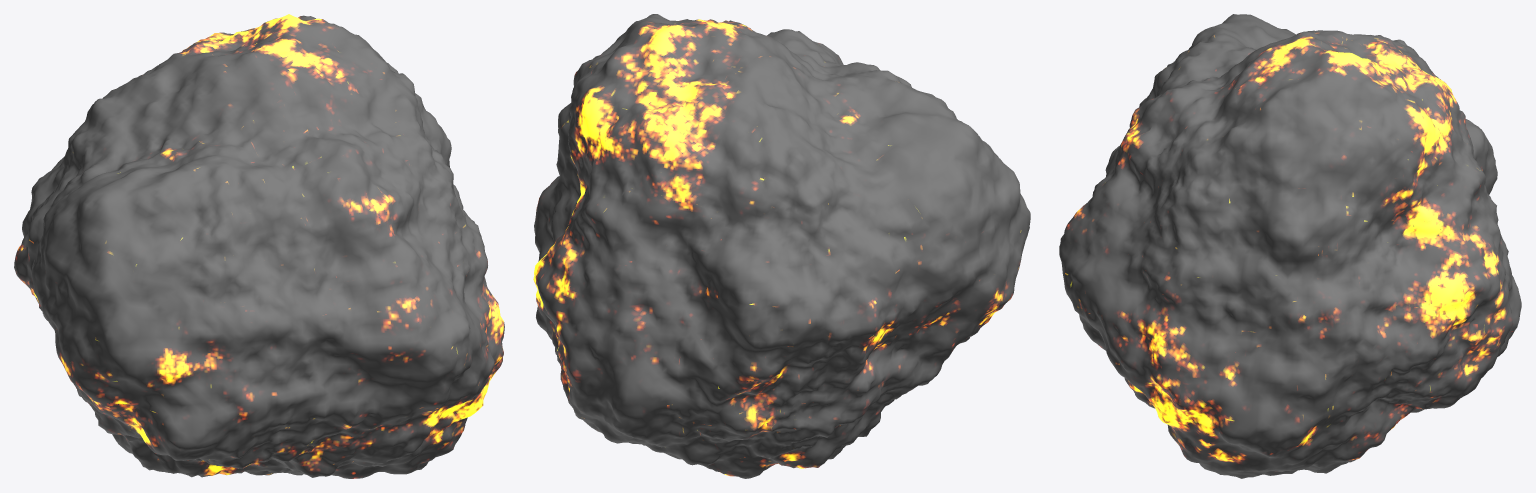
File: asteroid_01.gltf
3 renders of one model, left to right at view 1: azimuth 30°, elevation 25°; view 2: azimuth 150°, elevation 25°; view 3: azimuth 270°, elevation 25°, orthographic. The views are drawn at different scales.
Visible parts, largest first — view 1: Cube; view 2: Cube; view 3: Cube.
Boxes of the visible parts, bbox=[...] form: Cube: bbox=[14, 14, 504, 478]; Cube: bbox=[533, 14, 1030, 478]; Cube: bbox=[1059, 14, 1521, 478].
Bounding box in the file's own units: 1.82 × 1.74 × 1.77.
